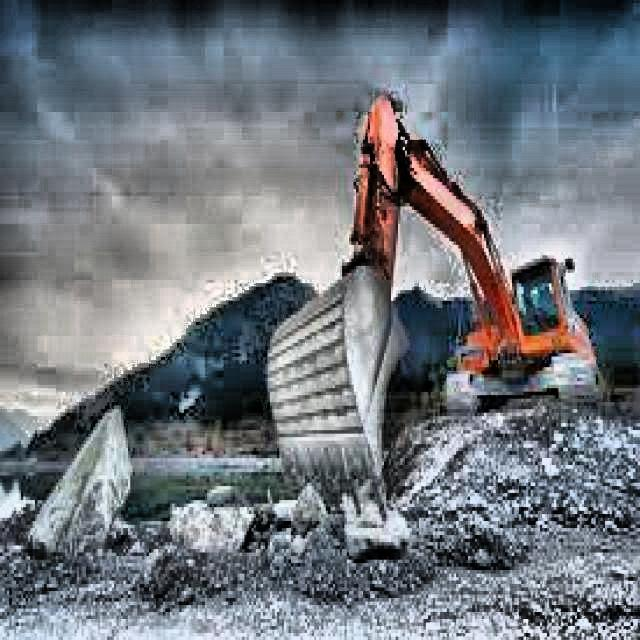bull_dozer/loader/grader: (262, 80, 608, 528)
person: (537, 278, 557, 321)
